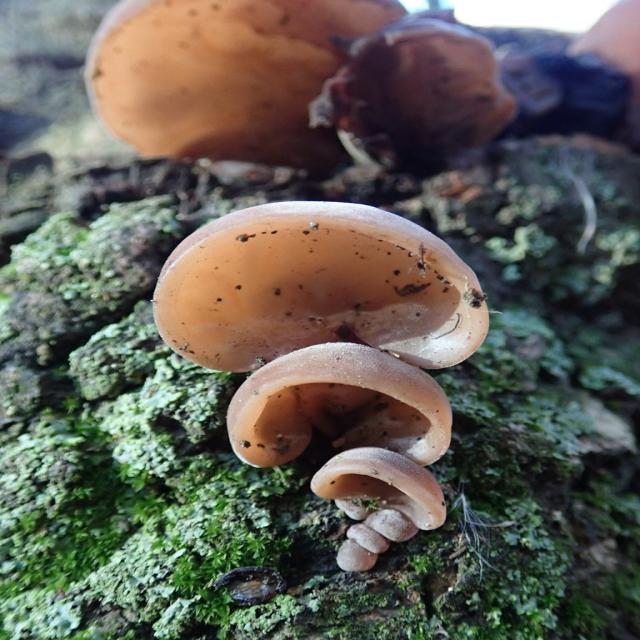Fase Muda: (88, 186, 533, 384), (225, 338, 498, 465), (310, 443, 466, 525)
Matang: (92, 0, 527, 175)
primordia: (336, 500, 408, 588)
